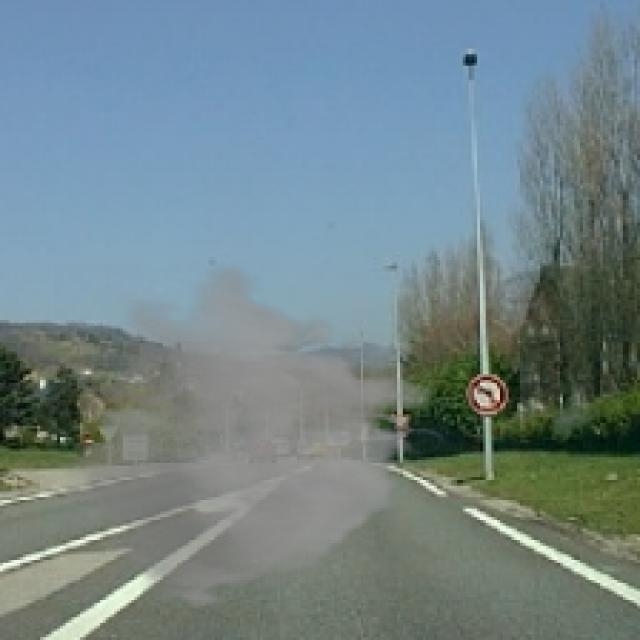smoke: (29, 263, 452, 611)
